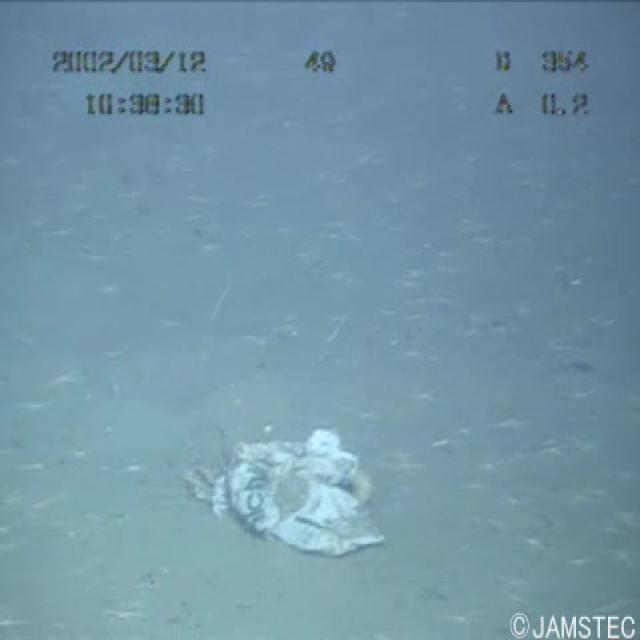plastic: (155, 414, 409, 566)
